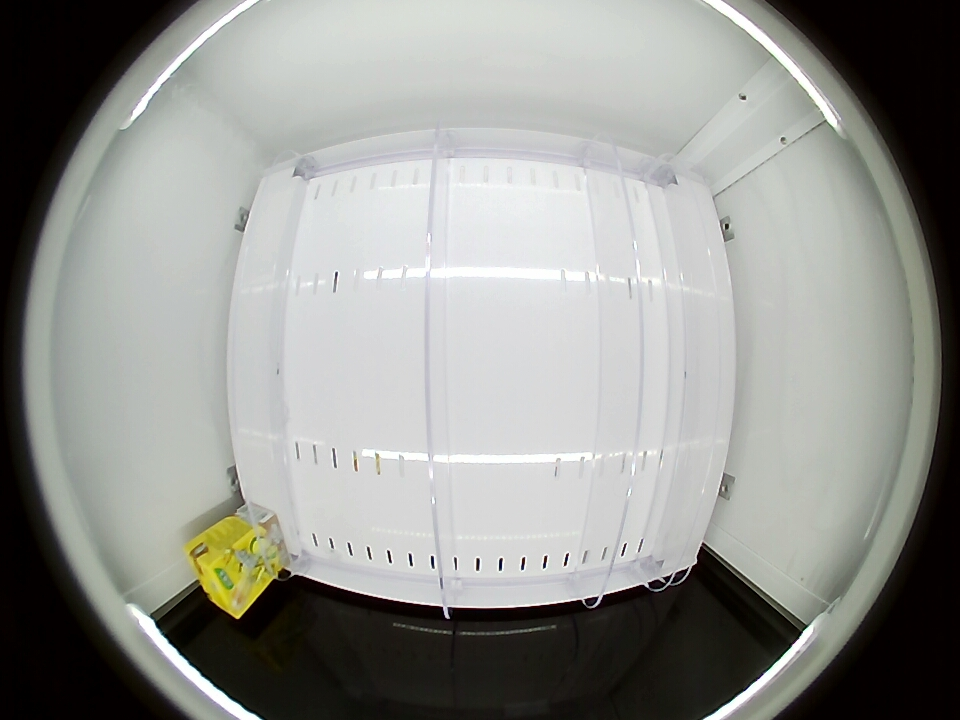weitaningmeng: (185, 525, 259, 618)
